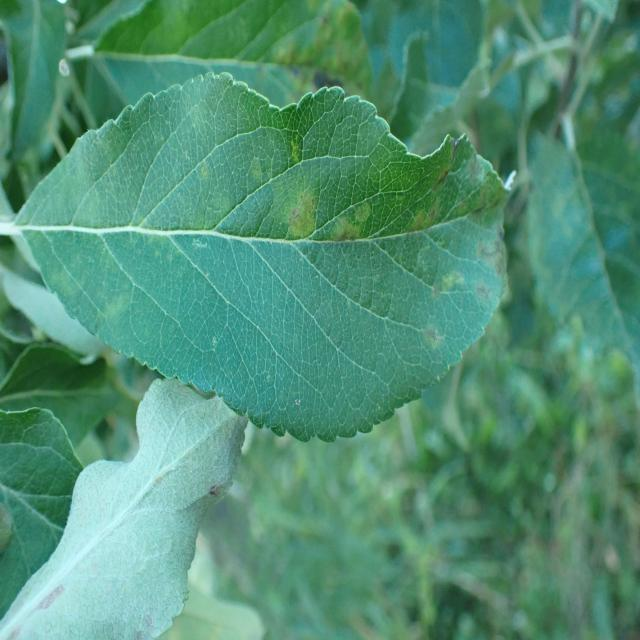scab: (51, 79, 516, 387)
